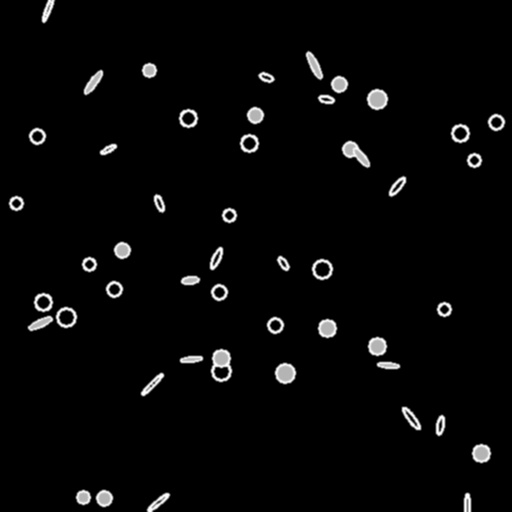pseudomonas: (140, 372, 164, 396), (400, 405, 422, 431), (83, 69, 103, 95), (305, 51, 323, 79), (146, 492, 170, 512), (387, 175, 407, 197), (208, 246, 224, 270), (28, 315, 52, 331), (352, 147, 370, 167), (40, 0, 56, 22), (276, 255, 290, 271), (153, 194, 165, 212), (100, 143, 116, 155), (181, 275, 199, 285), (258, 72, 274, 82), (181, 355, 201, 363), (318, 94, 334, 104), (436, 416, 444, 434), (377, 362, 399, 368), (464, 494, 469, 512)
synechocystis: (57, 308, 75, 326), (313, 260, 331, 278), (212, 362, 230, 380), (276, 364, 294, 382), (368, 90, 386, 108), (452, 125, 468, 141), (241, 135, 257, 151), (35, 294, 51, 310), (473, 445, 489, 461), (213, 350, 229, 366), (319, 320, 335, 336), (180, 110, 196, 126), (369, 338, 385, 354), (115, 243, 129, 257), (332, 77, 346, 91), (343, 142, 357, 156), (30, 129, 44, 143), (489, 115, 503, 129), (248, 108, 262, 122), (107, 282, 121, 296), (268, 318, 282, 332), (97, 491, 111, 505), (212, 285, 226, 299), (10, 197, 22, 209), (77, 491, 89, 503), (438, 303, 450, 315), (223, 209, 235, 221), (468, 154, 480, 166), (143, 64, 155, 76), (83, 258, 95, 270)
